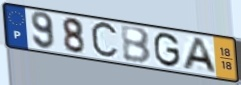8: (62, 17, 87, 56)
9: (30, 10, 57, 52)
A: (181, 36, 220, 76)
B: (119, 25, 153, 66)
C: (89, 20, 121, 61)
G: (153, 32, 182, 70)
